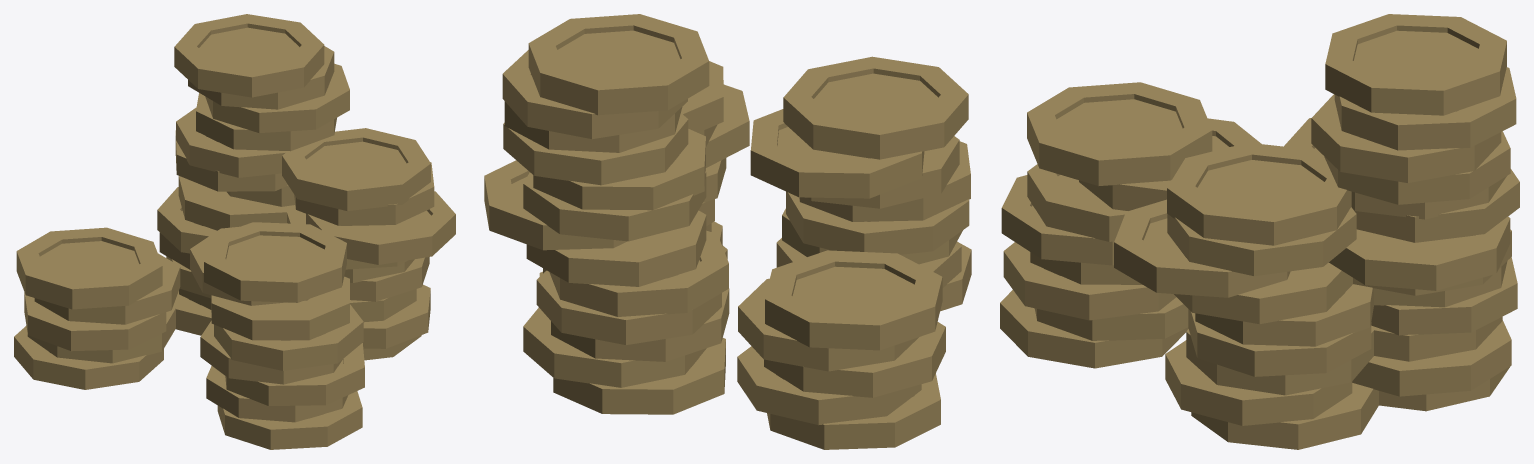
File: Coin_Pile.glb
3 views of the same model, side by side, from view 1: azimuth 30°, elevation 25°; view 2: azimuth 150°, elevation 25°; view 3: azimuth 270°, elevation 25° (orthographic). The views are drawn at different scales.
Visible parts, largest first — view 1: Coin_Pile; view 2: Coin_Pile; view 3: Coin_Pile.
Boxes of the visible parts, left/top/right/bottom form: Coin_Pile: left=14, top=14, right=455, bottom=449; Coin_Pile: left=484, top=14, right=971, bottom=449; Coin_Pile: left=1000, top=14, right=1519, bottom=449.
Size of the model in its own units: 0.1364 by 0.0946 by 0.1354.
